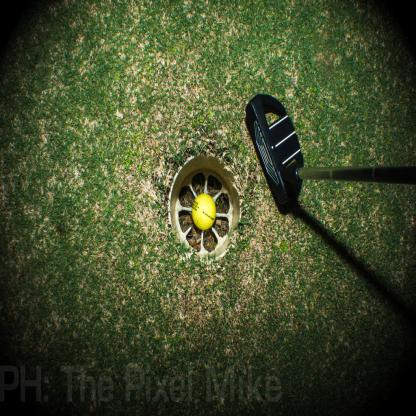Ball: (192, 194, 216, 230)
